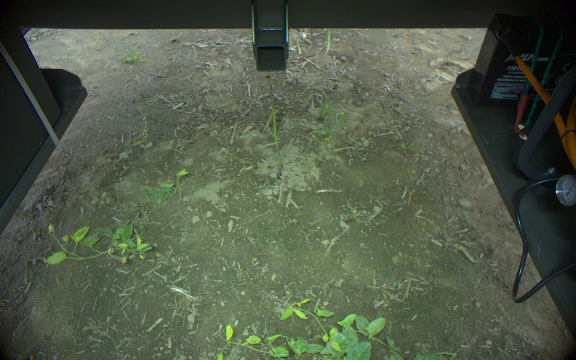aspa: (265, 75, 283, 171), (320, 27, 332, 63), (293, 33, 302, 55)
